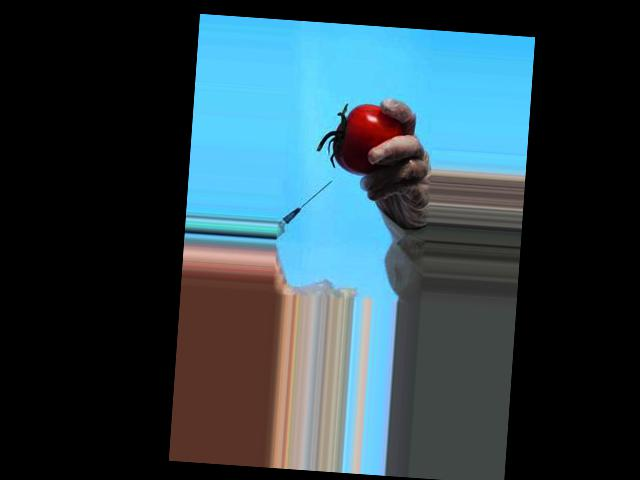tomato: (331, 101, 405, 176)
